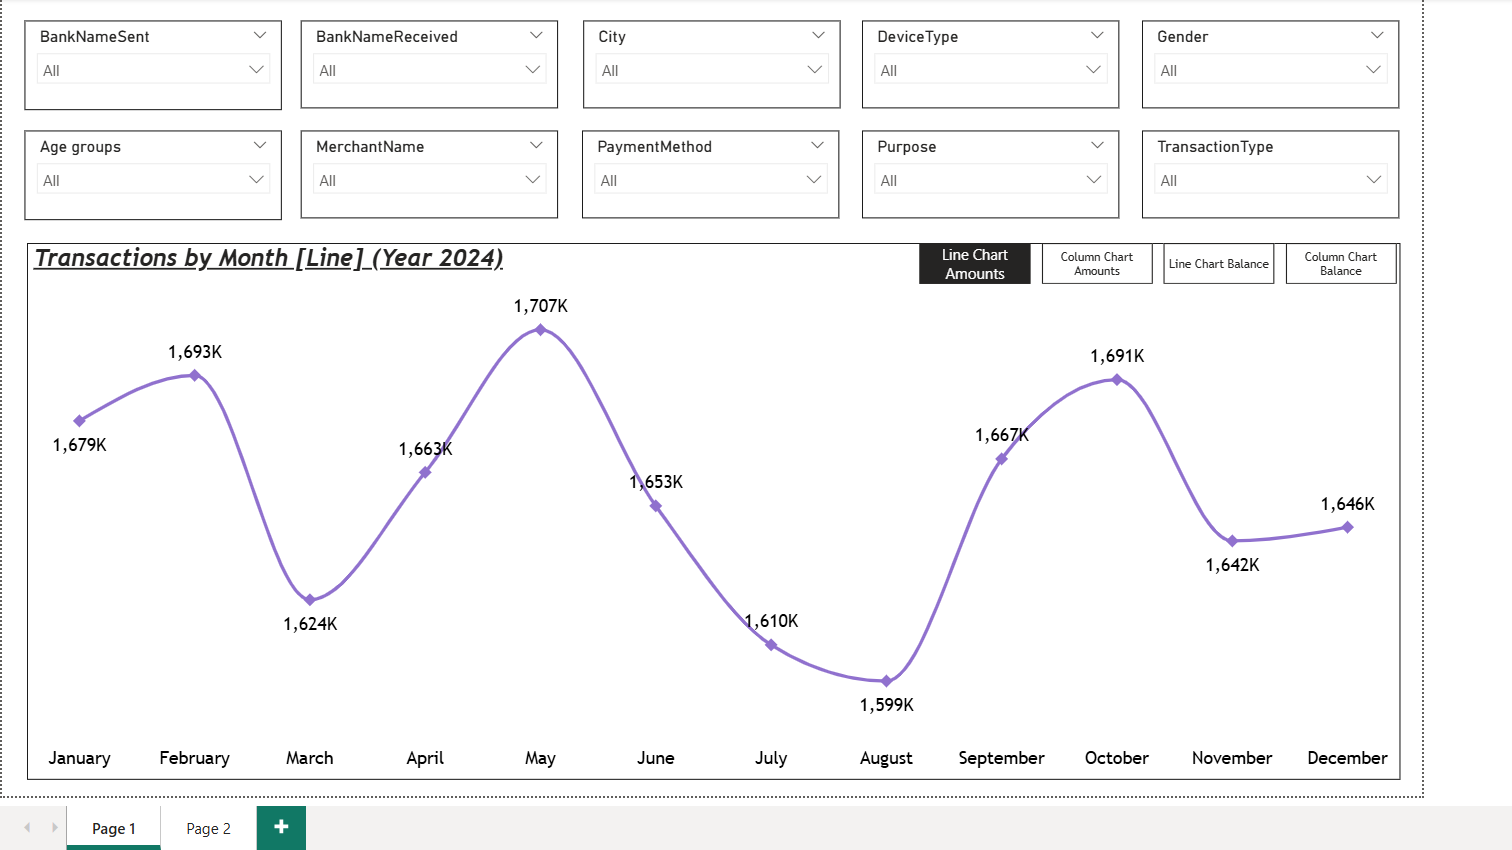

This screenshot's page, from the dashboard's own definition file:
{"tool":"powerbi","page":{"name":"Page 1","canvas":[1280,720],"ordinal":0},"visuals":[{"type":"slicer","fields":{"Values":["UPI Transactions.BankNameSent"]},"box":[20,20,232.3,80.7],"z":0},{"type":"slicer","fields":{"Values":["UPI Transactions.BankNameReceived"]},"box":[269,20.8,232.3,79.5],"z":1000},{"type":"slicer","fields":{"Values":["UPI Transactions.City"]},"box":[524,20.8,232,79.5],"z":2000},{"type":"slicer","fields":{"Values":["UPI Transactions.DeviceType"]},"box":[776,20.8,232,79.5],"z":3000},{"type":"slicer","fields":{"Values":["UPI Transactions.Gender"]},"box":[1028,20.8,232,79.5],"z":4000},{"type":"slicer","fields":{"Values":["UPI Transactions.Age groups"]},"box":[20,120,232.3,80.7],"z":5000},{"type":"slicer","fields":{"Values":["UPI Transactions.MerchantName"]},"box":[269,119.8,232.3,79.5],"z":6000},{"type":"slicer","fields":{"Values":["UPI Transactions.PaymentMethod"]},"box":[523.4,119.8,232.3,79.5],"z":7000},{"type":"slicer","fields":{"Values":["UPI Transactions.Purpose"]},"box":[775.3,119.8,232.3,79.5],"z":8000},{"type":"slicer","fields":{"Values":["UPI Transactions.TransactionType"]},"box":[1028.4,119.8,232.3,79.5],"z":9000},{"type":"lineChart","title":"Transactions by Month [Line] (Year 2024)","fields":{"Y":["Sum(UPI Transactions.Amount)"],"Category":["UPI Transactions.TransactionDate.Variation.Date Hierarchy.Month"]},"box":[22,221.3,1238.7,484.2],"z":10000},{"type":"bookmarkNavigator","box":[827.2,221.5,433.5,37.9],"z":14001}]}

Visuals, with their boxes on the page's 1280x720 design canvas (x1, y1, x2, y2). These are canvas units, not pixel positions in the 1512x850 screenshot, which may show the page scaled, cropped or inside an application window:
slicer - UPI Transactions.BankNameSent: 20:20:252:101
slicer - UPI Transactions.BankNameReceived: 269:21:501:100
slicer - UPI Transactions.City: 524:21:756:100
slicer - UPI Transactions.DeviceType: 776:21:1008:100
slicer - UPI Transactions.Gender: 1028:21:1260:100
slicer - UPI Transactions.Age groups: 20:120:252:201
slicer - UPI Transactions.MerchantName: 269:120:501:199
slicer - UPI Transactions.PaymentMethod: 523:120:756:199
slicer - UPI Transactions.Purpose: 775:120:1008:199
slicer - UPI Transactions.TransactionType: 1028:120:1261:199
"Transactions by Month [Line] (Year 2024)" lineChart: 22:221:1261:706
bookmarkNavigator: 827:222:1261:259
